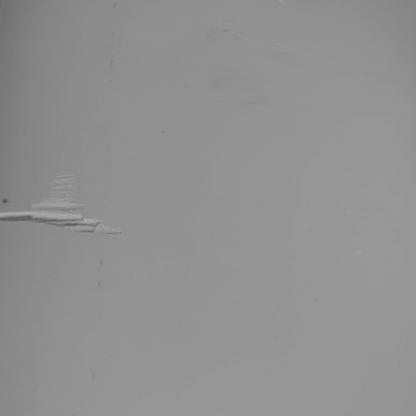sunshang: (1, 174, 123, 236)
